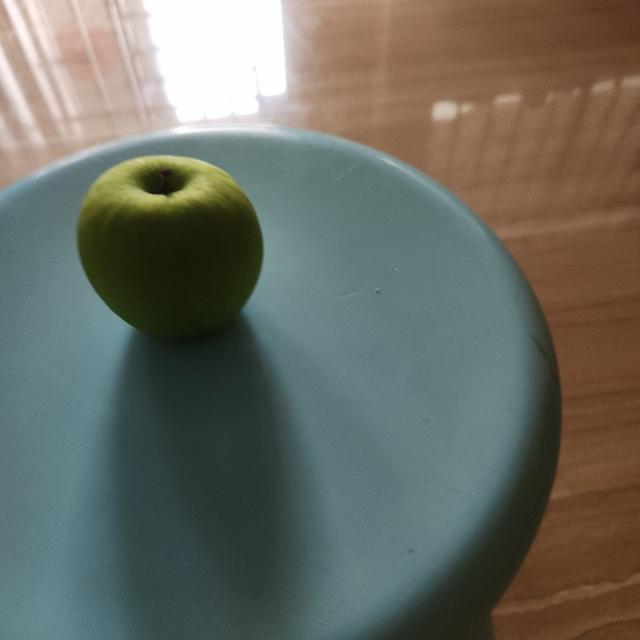apple: (70, 143, 268, 364)
